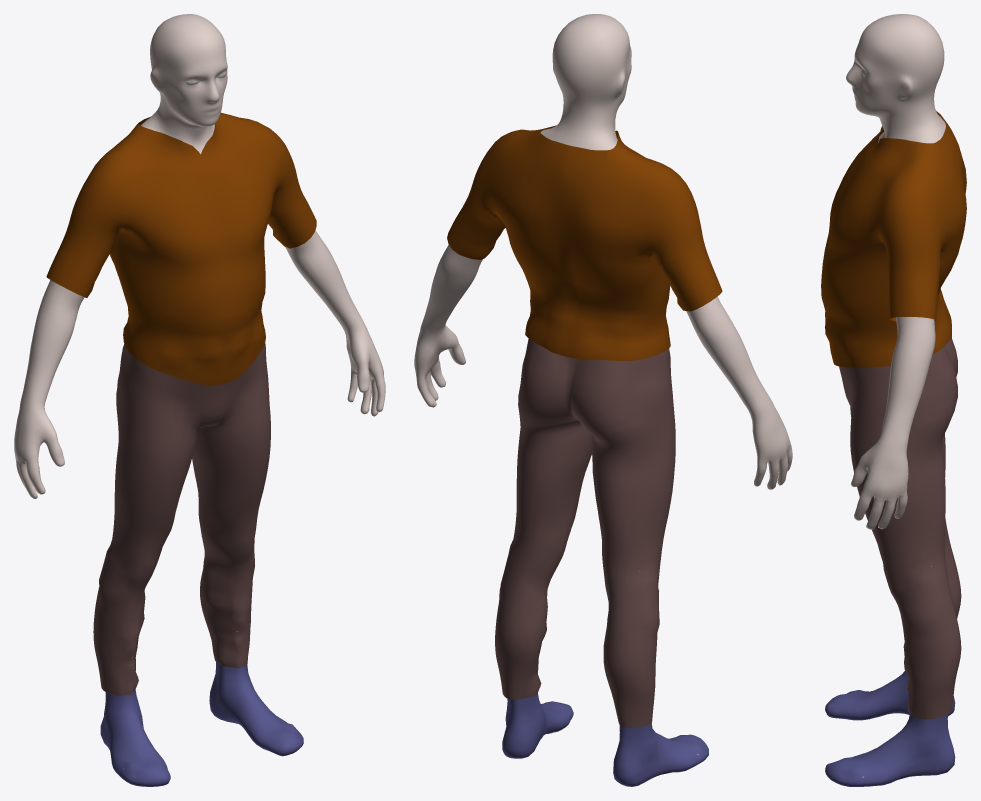
The picture shows the model from 3 angles, left to right: view 1: azimuth 30°, elevation 25°; view 2: azimuth 150°, elevation 25°; view 3: azimuth 270°, elevation 25°; orthographic projection.
Visible parts, largest first — view 1: HumanCharacter:nhanvat:HumanBody:humanBody1; view 2: HumanCharacter:nhanvat:HumanBody:humanBody1; view 3: HumanCharacter:nhanvat:HumanBody:humanBody1.
Part boxes in pixels (x1,y1,x2,y2): HumanCharacter:nhanvat:HumanBody:humanBody1: (14, 14, 385, 786); HumanCharacter:nhanvat:HumanBody:humanBody1: (414, 14, 792, 786); HumanCharacter:nhanvat:HumanBody:humanBody1: (821, 14, 966, 786).
Size of the model in its own units: 4 by 7.68 by 1.39.
